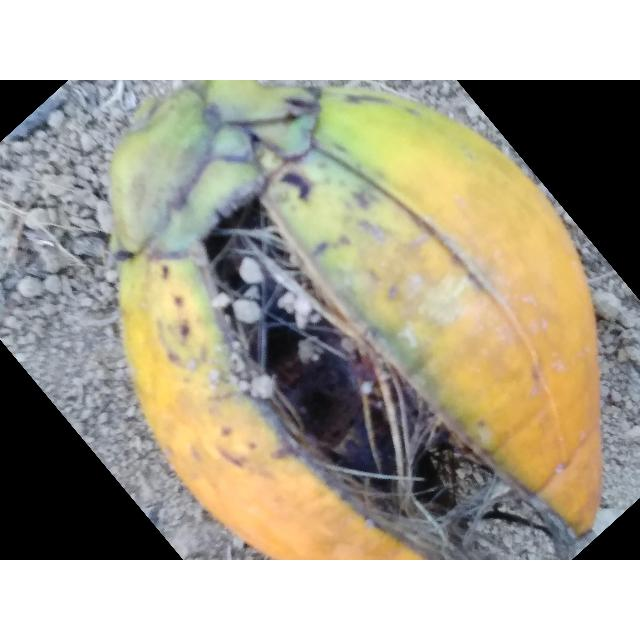damaged: (109, 80, 604, 560)
